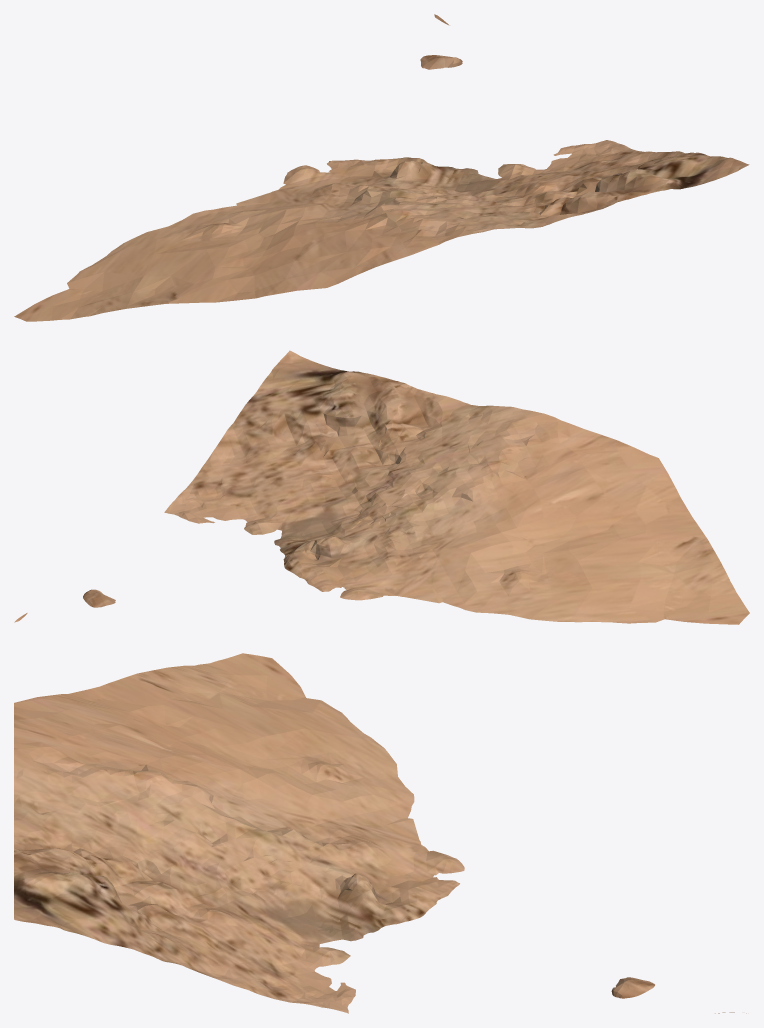
The picture shows the model from 3 angles, top to bottom: view 1: azimuth 30°, elevation 25°; view 2: azimuth 150°, elevation 25°; view 3: azimuth 270°, elevation 25°; orthographic projection. The views are drawn at different scales.
Size of the model in its own units: 4.18 by 0.517 by 3.65.
Materials: 1 (1 with a texture image).
